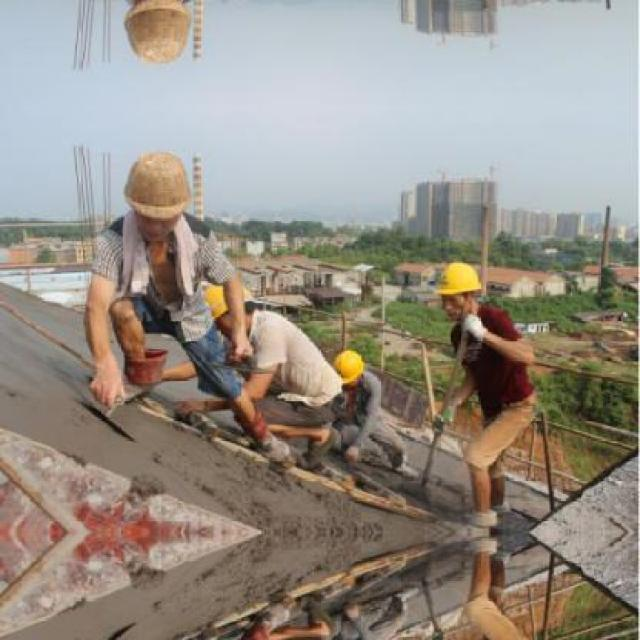helmet: (119, 140, 195, 248), (118, 0, 196, 74), (200, 275, 258, 337), (432, 257, 486, 321), (330, 344, 368, 391)
